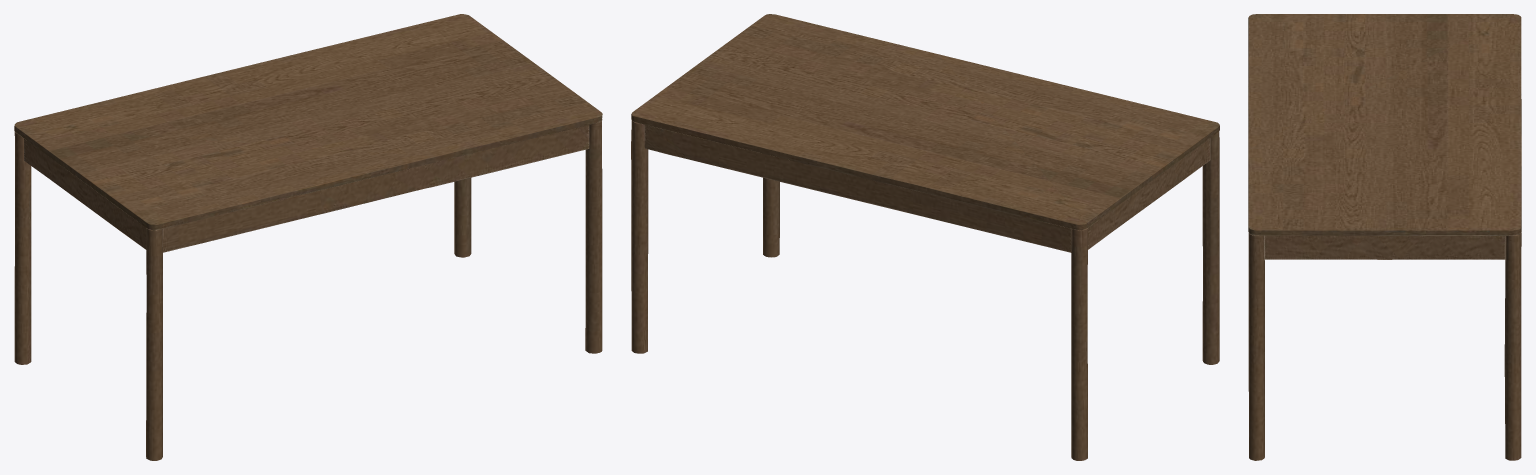
The model's file is 25 - TONSTAD Table - brown stained oak veneer 150x80 cm.glb.
The picture shows the model from 3 angles, left to right: view 1: azimuth 30°, elevation 25°; view 2: azimuth 150°, elevation 25°; view 3: azimuth 270°, elevation 25°; orthographic projection. The views are drawn at different scales.
Parts seen in each view (by area): view 1: ASY_ART_40599940_S01_NV01; view 2: ASY_ART_40599940_S01_NV01; view 3: ASY_ART_40599940_S01_NV01.
Part boxes in pixels (left/top/right/bottom): ASY_ART_40599940_S01_NV01: left=14, top=14, right=602, bottom=460; ASY_ART_40599940_S01_NV01: left=631, top=14, right=1219, bottom=460; ASY_ART_40599940_S01_NV01: left=1248, top=14, right=1521, bottom=460.
Bounding box in the file's own units: 1.5 × 0.7498 × 0.8006.
Materials: 1 (1 with a texture image).
